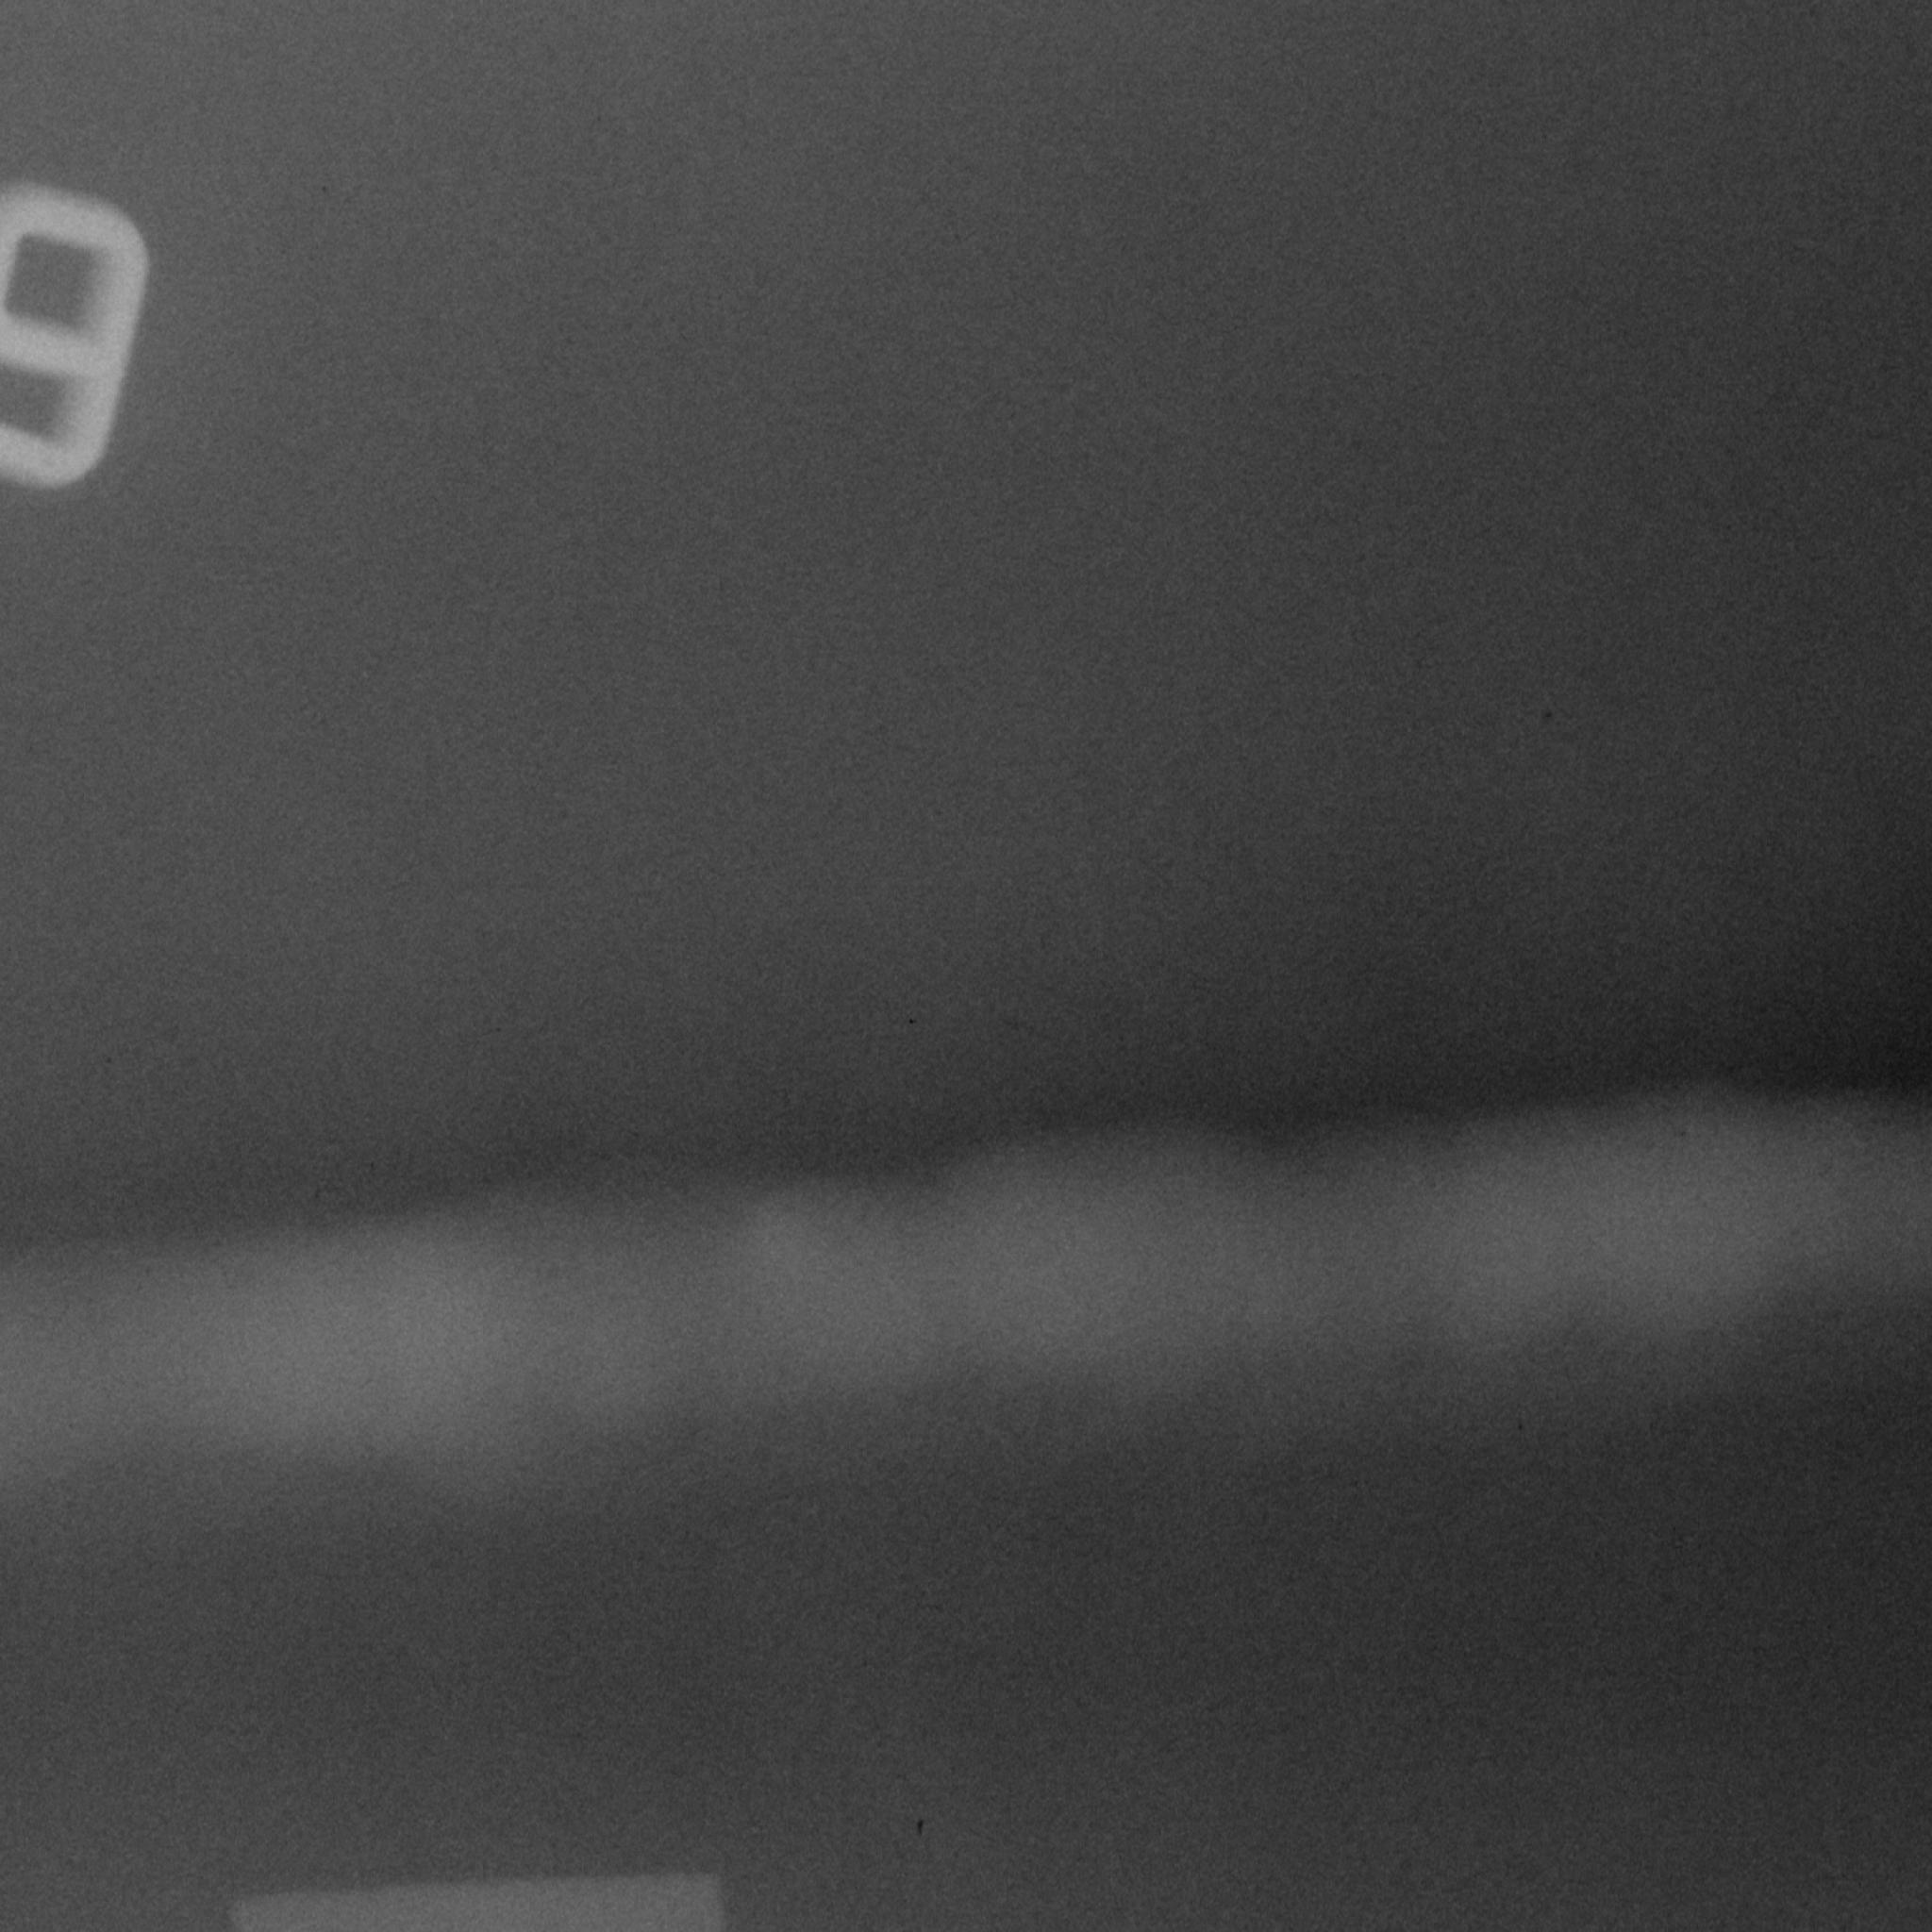Sem defeitos: (0, 1070, 1932, 1585)
